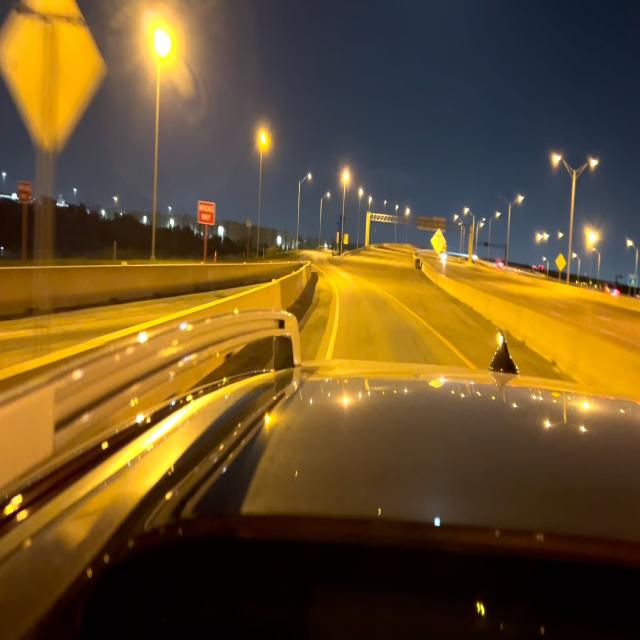back-of-sign: (0, 0, 106, 155)
